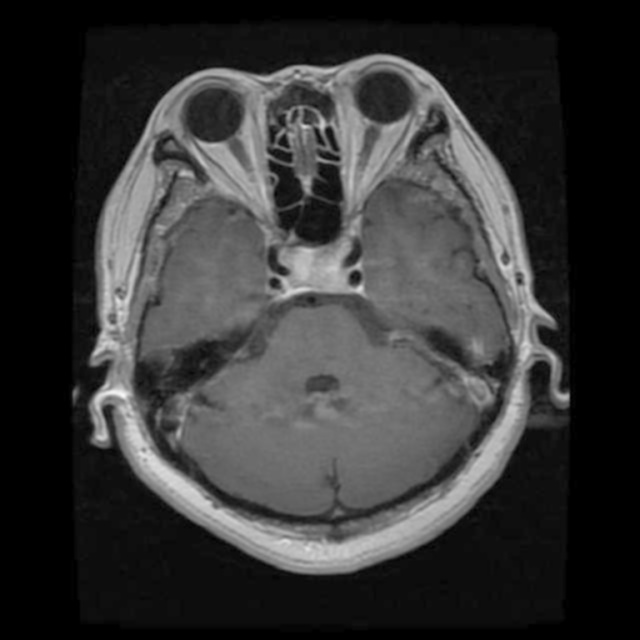no tumor: (282, 238, 388, 302)
